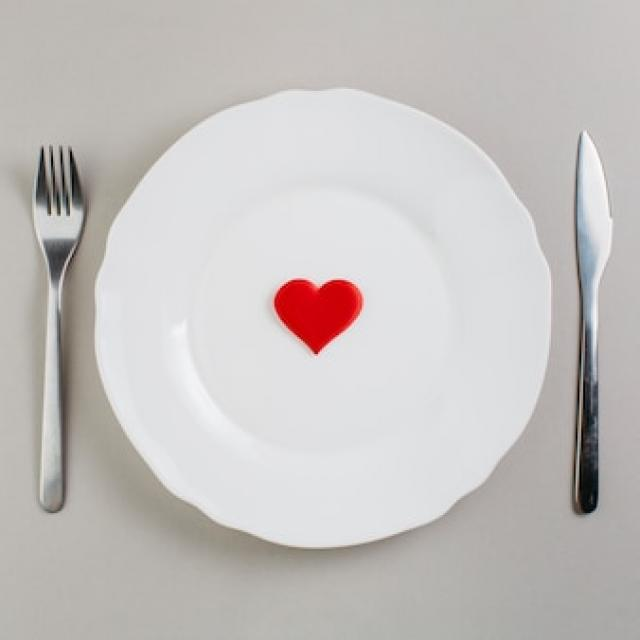fork: (33, 145, 86, 515)
plate: (87, 68, 557, 560)
